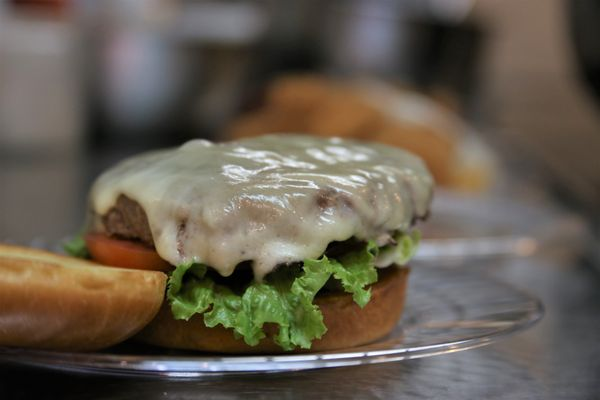soup: (81, 131, 436, 355), (0, 240, 168, 352)
